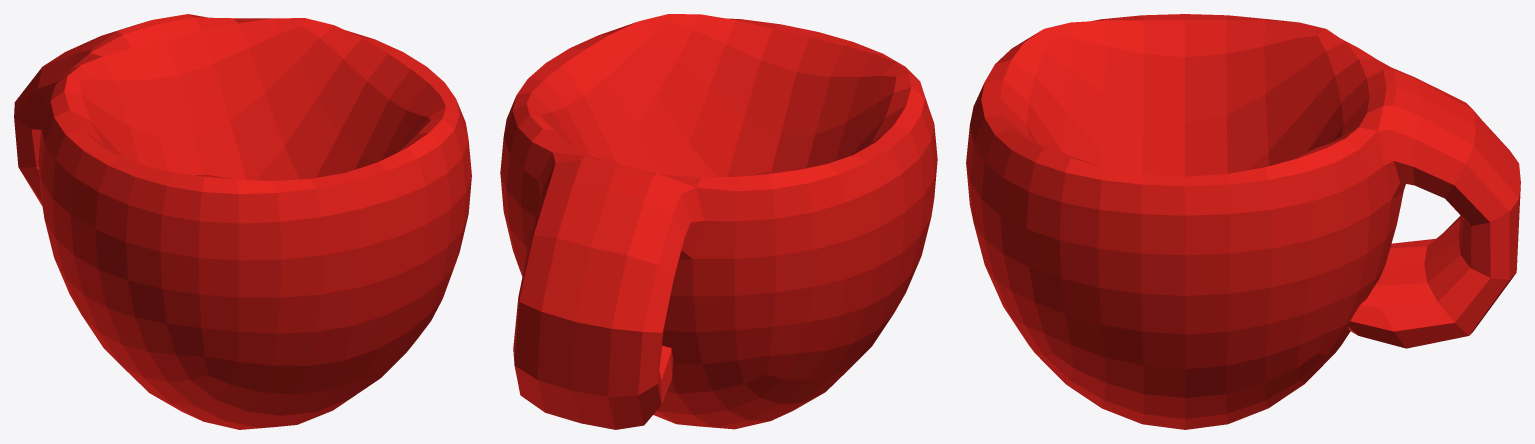
The picture shows the model from 3 angles, left to right: view 1: azimuth 30°, elevation 25°; view 2: azimuth 150°, elevation 25°; view 3: azimuth 270°, elevation 25°; orthographic projection. The views are drawn at different scales.
Parts seen in each view (by area): view 1: Cube; view 2: Cube; view 3: Cube.
Part boxes in pixels (box(x1,y1,x2,y2)): Cube: box(14, 14, 471, 429); Cube: box(500, 14, 937, 429); Cube: box(966, 14, 1520, 429).
Bounding box in the file's own units: 160 × 134 × 203.
